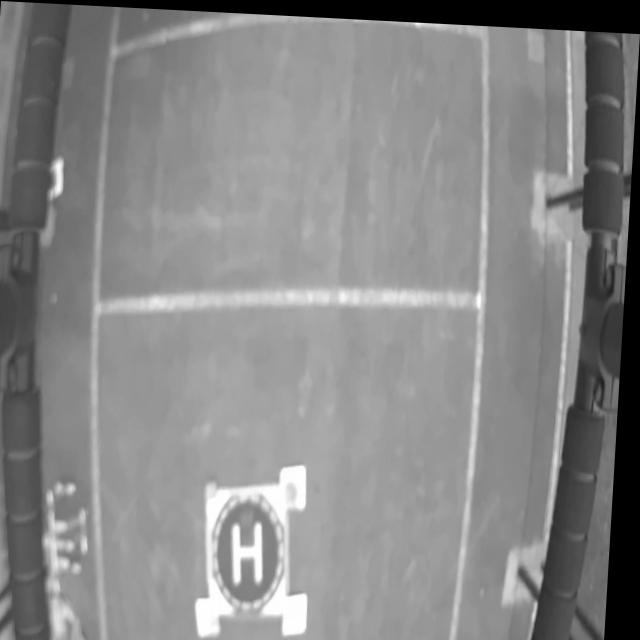Helipad: (236, 516, 268, 582)
